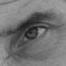eye: (26, 29, 38, 39)
